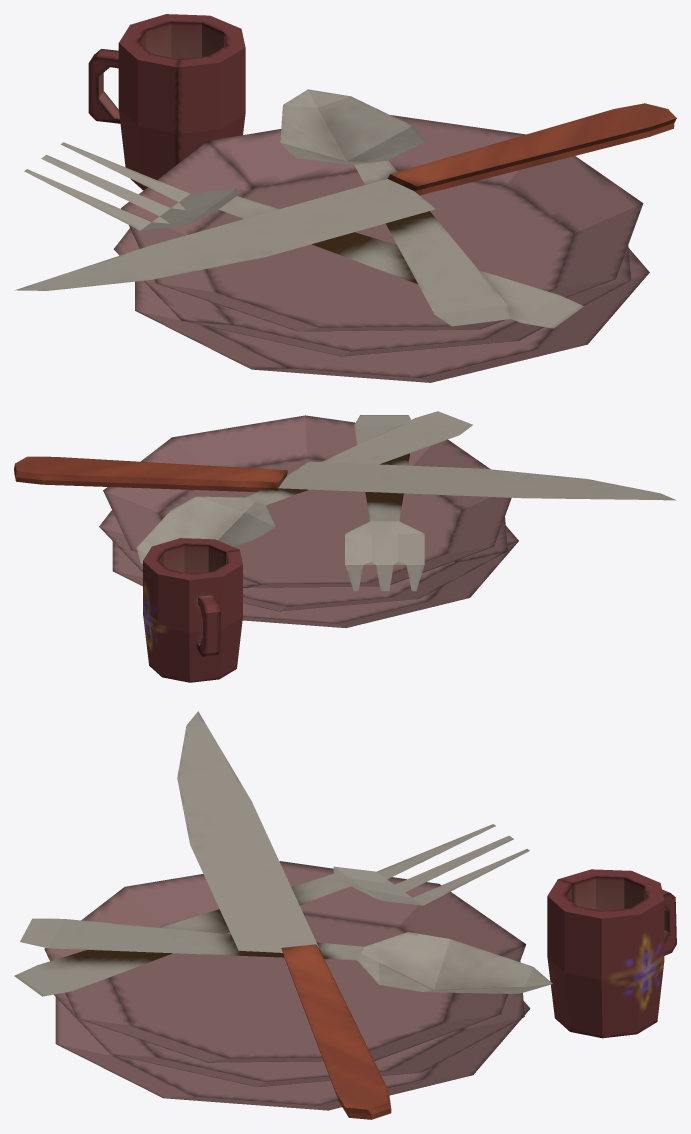
The model's file is cutlery.fbx.
3 views of the same model, one above another, from view 1: azimuth 30°, elevation 25°; view 2: azimuth 150°, elevation 25°; view 3: azimuth 270°, elevation 25° (orthographic). The views are drawn at different scales.
Parts seen in each view (by area): view 1: cutlery.002, cutlery.003; view 2: cutlery.002, cutlery.003; view 3: cutlery.002, cutlery.003.
Boxes of the visible parts, bbox=[...] form: cutlery.002: bbox=[88, 14, 649, 382]; cutlery.003: bbox=[15, 89, 676, 328]; cutlery.002: bbox=[99, 415, 518, 682]; cutlery.003: bbox=[14, 411, 676, 591]; cutlery.002: bbox=[44, 861, 676, 1110]; cutlery.003: bbox=[14, 711, 552, 1119].
Size of the model in its own units: 64.64 by 11.8 by 53.92.
